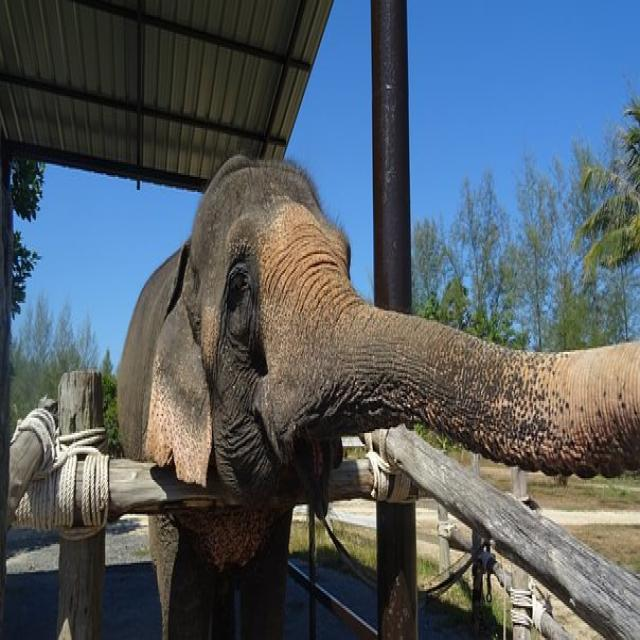Elephant: (115, 126, 640, 635)
